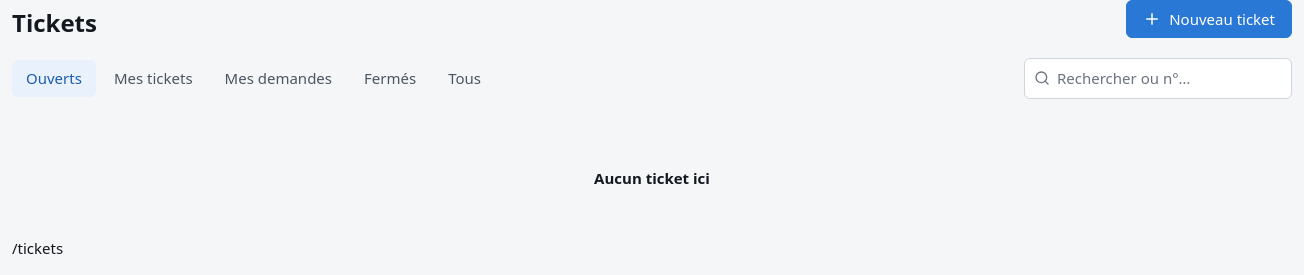
Test: TicketsPage › reporte la saisie dans l'URL après une pause
This screenshot has width=1304, height=275.
Type "vpn " into the search field named "Rechercher un ticket" at [1158, 78], box [1024, 58, 1292, 98]
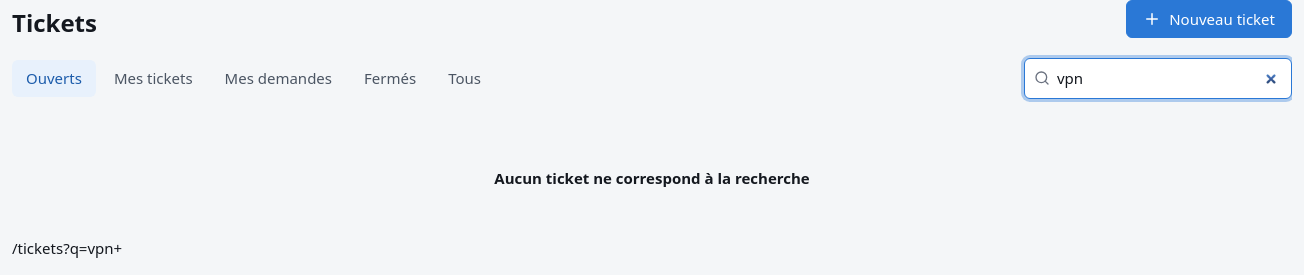
Now the text with test id "location" reads "/tickets?q=vpn+", box [12, 238, 122, 258]
